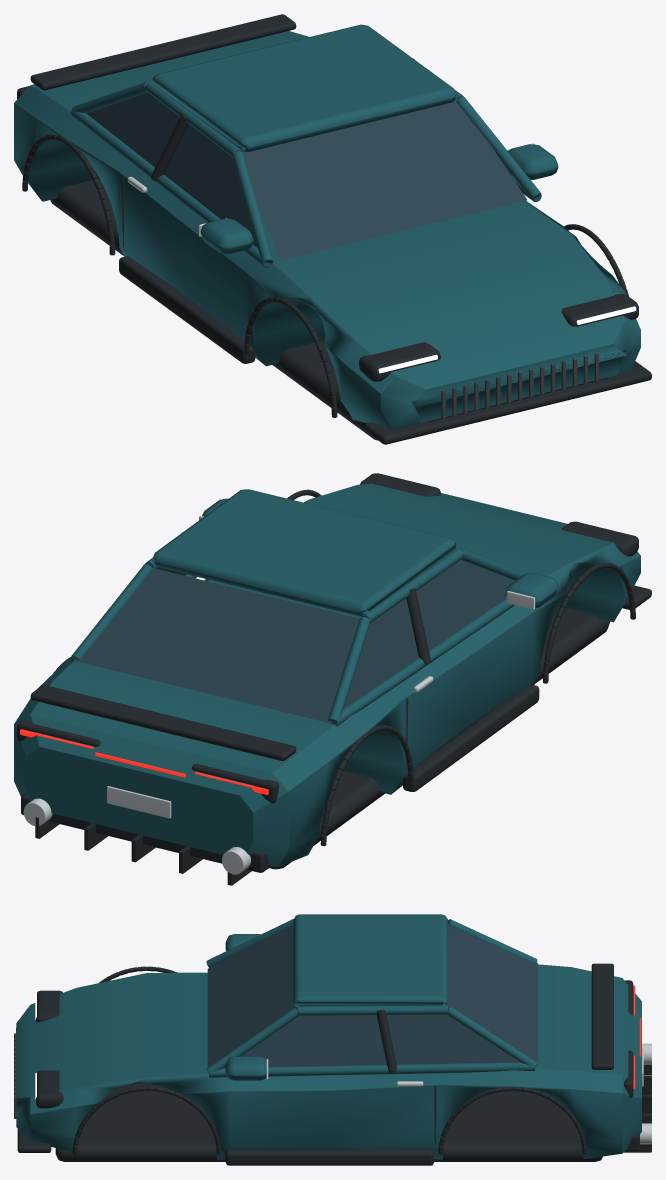
Rendered from coupe-body.glb.
3 views of the same model, one above another, from view 1: azimuth 30°, elevation 25°; view 2: azimuth 150°, elevation 25°; view 3: azimuth 270°, elevation 25° (orthographic). The views are drawn at different scales.
Parts seen in each view (by area): view 1: Petrol metallic clearcoat, Smoked reflective glass, Black satin trim, Dark wheel pockets, LED white; view 2: Petrol metallic clearcoat, Smoked reflective glass, Black satin trim, Brushed aluminium, LED red; view 3: Petrol metallic clearcoat, Black satin trim, Smoked reflective glass, Brushed aluminium.
Part boxes in pixels (x1,y1,x2,y2): Petrol metallic clearcoat: [14, 24, 640, 428]; Smoked reflective glass: [86, 92, 527, 260]; Black satin trim: [17, 14, 651, 444]; Dark wheel pockets: [441, 352, 598, 418]; LED white: [378, 306, 636, 373]; Petrol metallic clearcoat: [14, 483, 640, 867]; Smoked reflective glass: [74, 560, 514, 723]; Black satin trim: [17, 473, 651, 885]; Brushed aluminium: [23, 515, 535, 874]; LED red: [20, 729, 268, 794]; Petrol metallic clearcoat: [16, 914, 641, 1160]; Black satin trim: [17, 963, 651, 1165]; Smoked reflective glass: [207, 924, 537, 1067]; Brushed aluminium: [266, 1043, 651, 1144].
Size of the model in its own units: 2.3 by 1.28 by 4.54.
